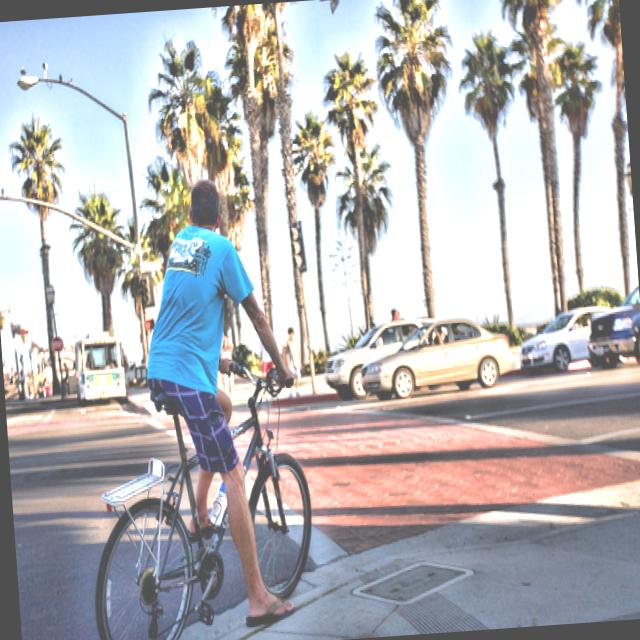Vehicle: (357, 314, 514, 402), (323, 316, 441, 399), (516, 302, 618, 373), (582, 277, 640, 366), (71, 329, 128, 406)
